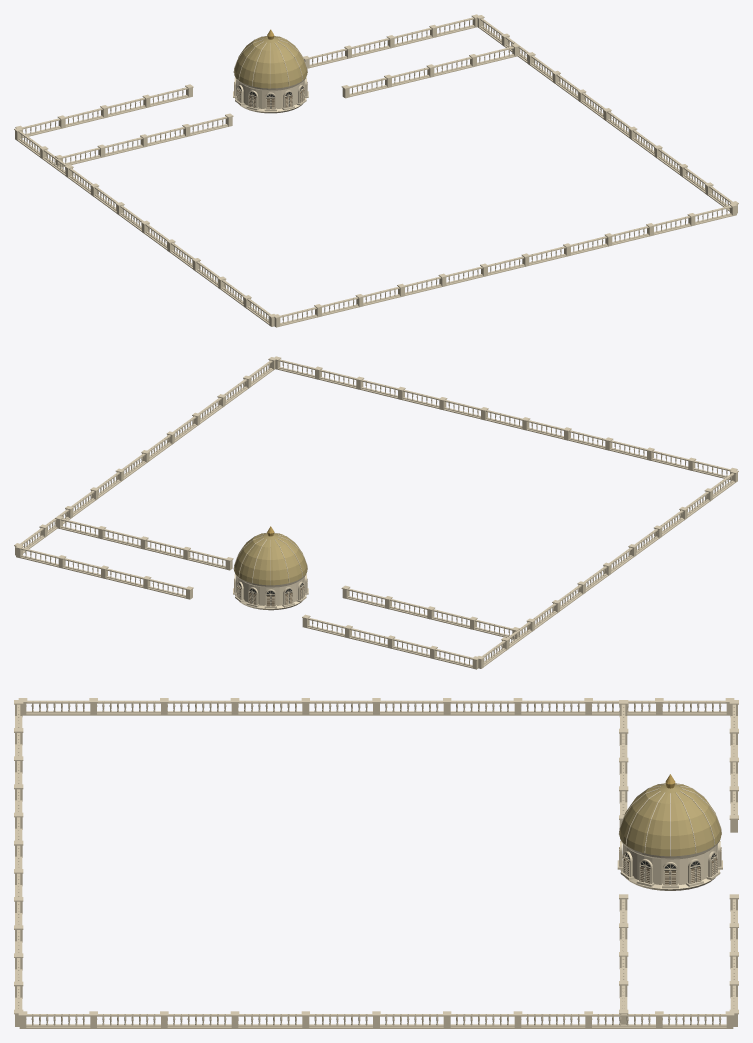
The model's file is KOL_T1_RAJBARI__04_Roofline.fbx.
3 views of the same model, one above another, from view 1: azimuth 30°, elevation 25°; view 2: azimuth 150°, elevation 25°; view 3: azimuth 270°, elevation 25° (orthographic). The views are drawn at different scales.
Parts seen in each view (by area): view 1: KOL_T1_RAJBARI__04_Roofline__KOL_T1_EstateIvory.002, KOL_T1_RAJBARI__04_Roofline__KOL_T1_EstateIvory.004, KOL_T1_RAJBARI__04_Roofline__KOL_T1_EstateIvory.005, KOL_T1_RAJBARI__04_Roofline__KOL_T1_EstateDome, KOL_T1_RAJBARI__04_Roofline__KOL_T1_EstateIvory.001, KOL_T1_RAJBARI__04_Roofline__KOL_T1_EstateIvory.003, KOL_T1_RAJBARI__04_Roofline__KOL_T1_EstateIvory, KOL_T1_RAJBARI__04_Roofline__KOL_T1_EstateIvory.006; view 2: KOL_T1_RAJBARI__04_Roofline__KOL_T1_EstateIvory.002, KOL_T1_RAJBARI__04_Roofline__KOL_T1_EstateIvory.004, KOL_T1_RAJBARI__04_Roofline__KOL_T1_EstateIvory.001, KOL_T1_RAJBARI__04_Roofline__KOL_T1_EstateIvory.005, KOL_T1_RAJBARI__04_Roofline__KOL_T1_EstateDome, KOL_T1_RAJBARI__04_Roofline__KOL_T1_EstateIvory.003, KOL_T1_RAJBARI__04_Roofline__KOL_T1_EstateIvory, KOL_T1_RAJBARI__04_Roofline__KOL_T1_EstateIvory.006; view 3: KOL_T1_RAJBARI__04_Roofline__KOL_T1_EstateIvory.005, KOL_T1_RAJBARI__04_Roofline__KOL_T1_EstateIvory.004, KOL_T1_RAJBARI__04_Roofline__KOL_T1_EstateDome, KOL_T1_RAJBARI__04_Roofline__KOL_T1_EstateIvory.006, KOL_T1_RAJBARI__04_Roofline__KOL_T1_EstateIvory.002, KOL_T1_RAJBARI__04_Roofline__KOL_T1_EstateIvory, KOL_T1_RAJBARI__04_Roofline__KOL_T1_EstateIvory.001, KOL_T1_RAJBARI__04_Roofline__KOL_T1_EstateIvory.003.
Part boxes in pixels (x1=…): KOL_T1_RAJBARI__04_Roofline__KOL_T1_EstateIvory.002: x1=55, y1=14, x2=732, y2=326; KOL_T1_RAJBARI__04_Roofline__KOL_T1_EstateIvory.004: x1=17, y1=139, x2=737, y2=327; KOL_T1_RAJBARI__04_Roofline__KOL_T1_EstateIvory.005: x1=14, y1=27, x2=732, y2=326; KOL_T1_RAJBARI__04_Roofline__KOL_T1_EstateDome: x1=234, y1=36, x2=307, y2=88; KOL_T1_RAJBARI__04_Roofline__KOL_T1_EstateIvory.001: x1=15, y1=17, x2=475, y2=137; KOL_T1_RAJBARI__04_Roofline__KOL_T1_EstateIvory.003: x1=282, y1=216, x2=690, y2=322; KOL_T1_RAJBARI__04_Roofline__KOL_T1_EstateIvory: x1=233, y1=36, x2=308, y2=113; KOL_T1_RAJBARI__04_Roofline__KOL_T1_EstateIvory.006: x1=476, y1=15, x2=738, y2=213; KOL_T1_RAJBARI__04_Roofline__KOL_T1_EstateIvory.002: x1=15, y1=368, x2=729, y2=639; KOL_T1_RAJBARI__04_Roofline__KOL_T1_EstateIvory.004: x1=273, y1=356, x2=737, y2=666; KOL_T1_RAJBARI__04_Roofline__KOL_T1_EstateIvory.001: x1=20, y1=536, x2=479, y2=669; KOL_T1_RAJBARI__04_Roofline__KOL_T1_EstateIvory.005: x1=23, y1=360, x2=738, y2=668; KOL_T1_RAJBARI__04_Roofline__KOL_T1_EstateDome: x1=234, y1=532, x2=307, y2=585; KOL_T1_RAJBARI__04_Roofline__KOL_T1_EstateIvory.003: x1=320, y1=369, x2=727, y2=476; KOL_T1_RAJBARI__04_Roofline__KOL_T1_EstateIvory: x1=235, y1=533, x2=308, y2=610; KOL_T1_RAJBARI__04_Roofline__KOL_T1_EstateIvory.006: x1=14, y1=357, x2=275, y2=555; KOL_T1_RAJBARI__04_Roofline__KOL_T1_EstateIvory.005: x1=18, y1=698, x2=734, y2=1028; KOL_T1_RAJBARI__04_Roofline__KOL_T1_EstateIvory.004: x1=14, y1=700, x2=726, y2=1026; KOL_T1_RAJBARI__04_Roofline__KOL_T1_EstateDome: x1=619, y1=783, x2=721, y2=856; KOL_T1_RAJBARI__04_Roofline__KOL_T1_EstateIvory.006: x1=18, y1=1011, x2=734, y2=1028; KOL_T1_RAJBARI__04_Roofline__KOL_T1_EstateIvory.002: x1=15, y1=700, x2=738, y2=1026; KOL_T1_RAJBARI__04_Roofline__KOL_T1_EstateIvory: x1=617, y1=784, x2=722, y2=890; KOL_T1_RAJBARI__04_Roofline__KOL_T1_EstateIvory.001: x1=676, y1=700, x2=738, y2=1009; KOL_T1_RAJBARI__04_Roofline__KOL_T1_EstateIvory.003: x1=17, y1=707, x2=20, y2=981.
Size of the model in its own units: 176 by 25.1 by 170.
